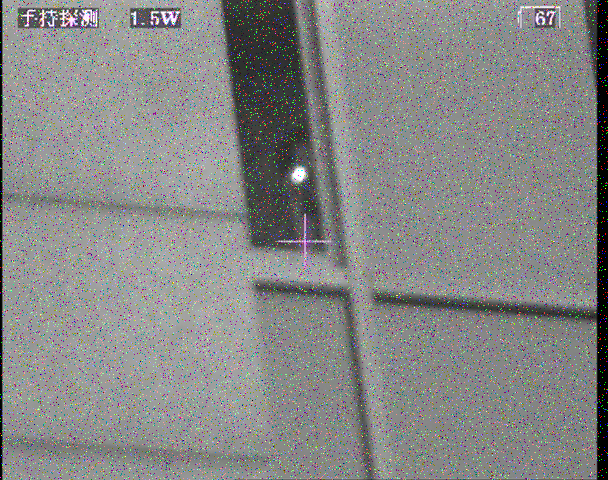my: (291, 165, 308, 182)
